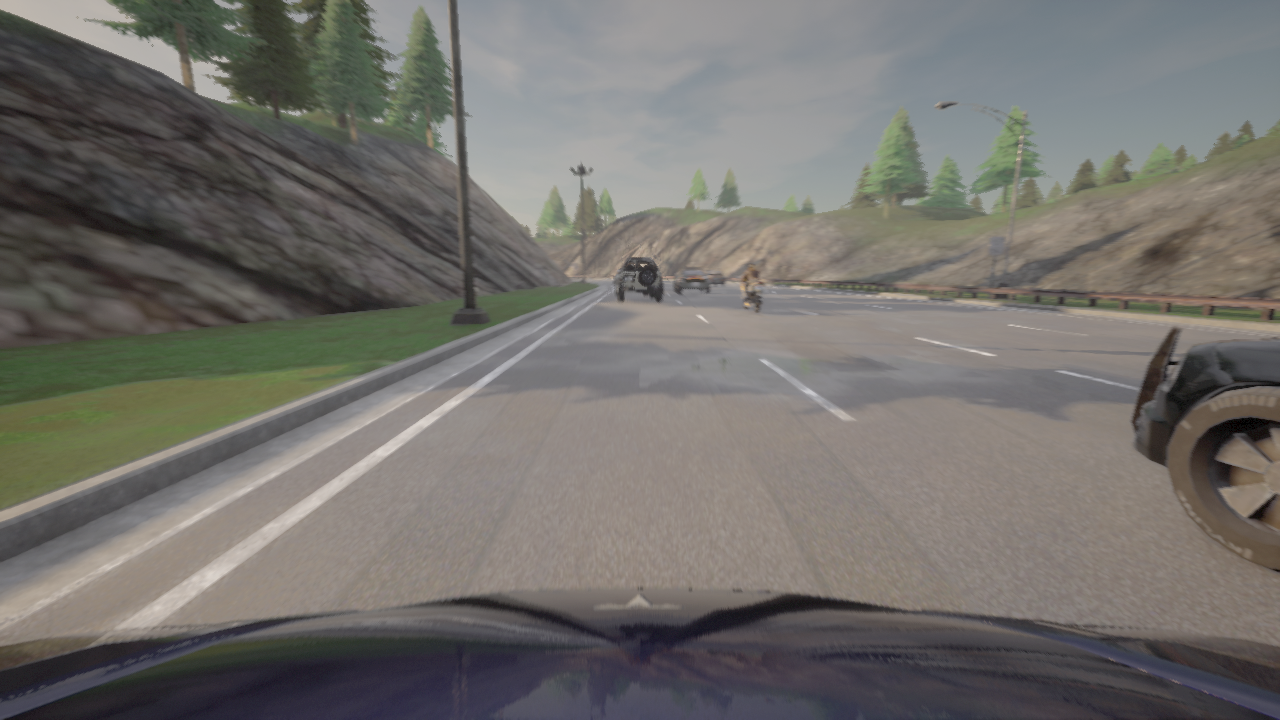cyclist: (0, 588, 1279, 719), (1130, 327, 1279, 572), (616, 258, 662, 300), (736, 275, 764, 312), (674, 267, 710, 293), (614, 268, 648, 294), (704, 270, 725, 286)
